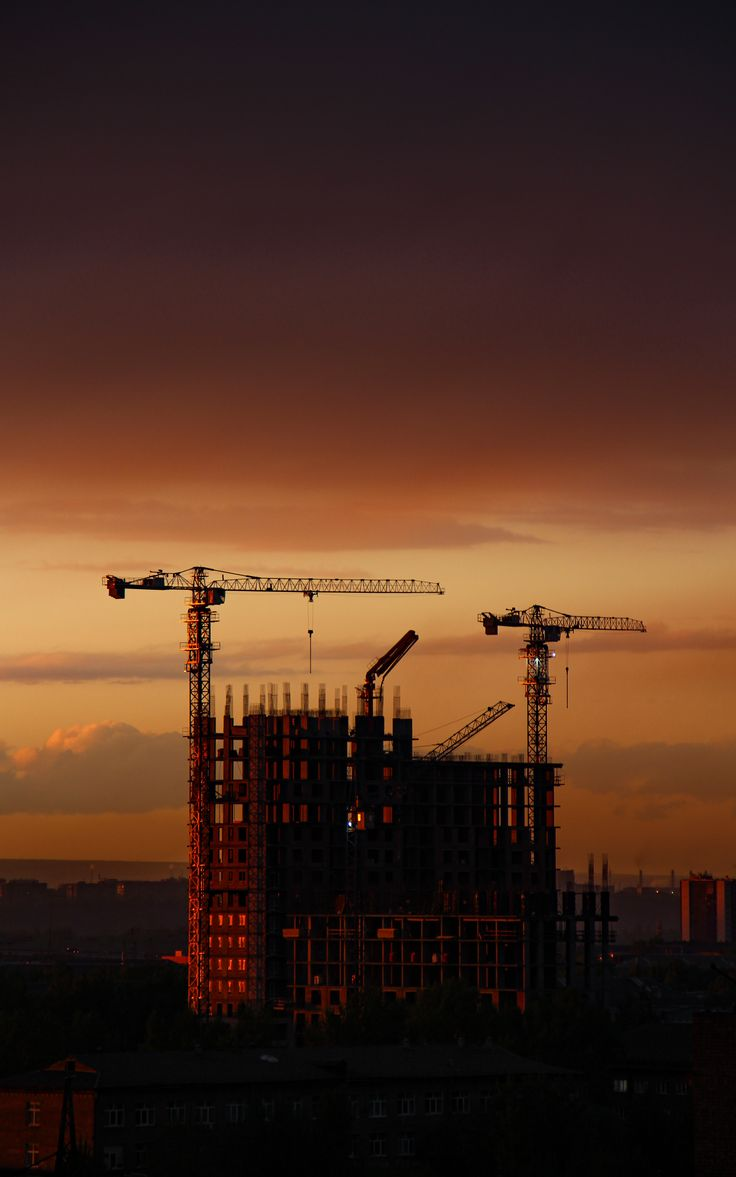crane: (80, 506, 465, 1023), (477, 577, 664, 856)
